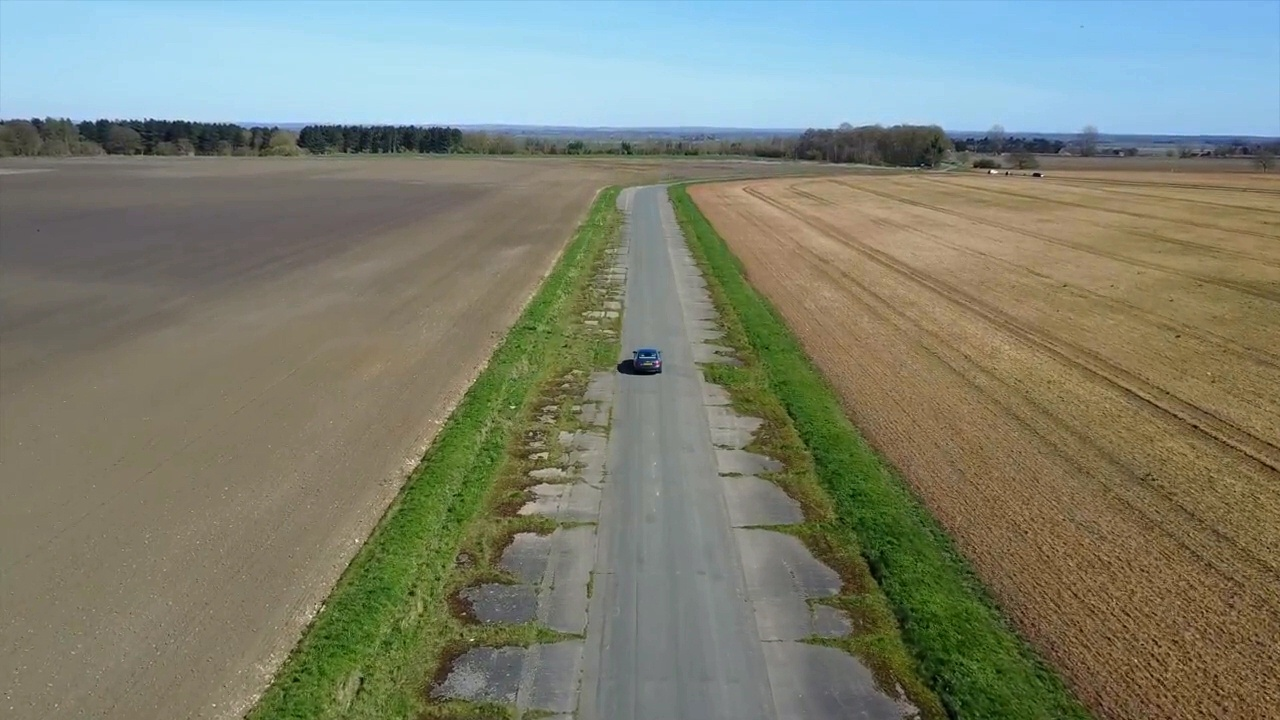araba: (630, 345, 662, 370)
